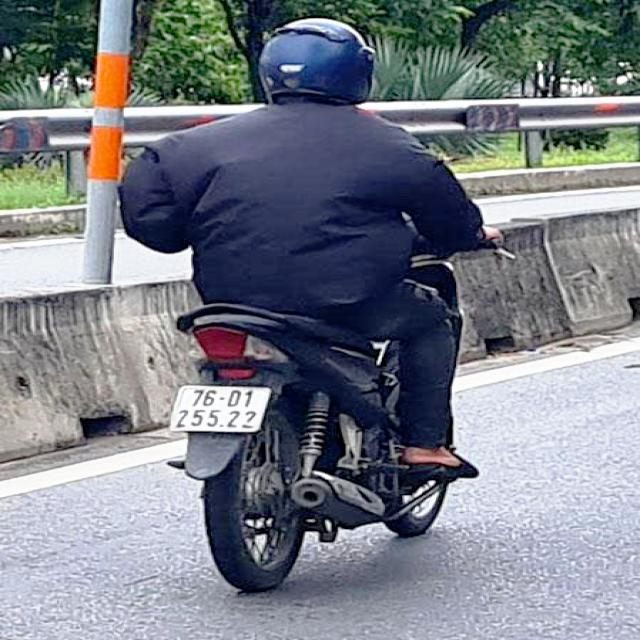license_plate: (170, 385, 271, 432)
